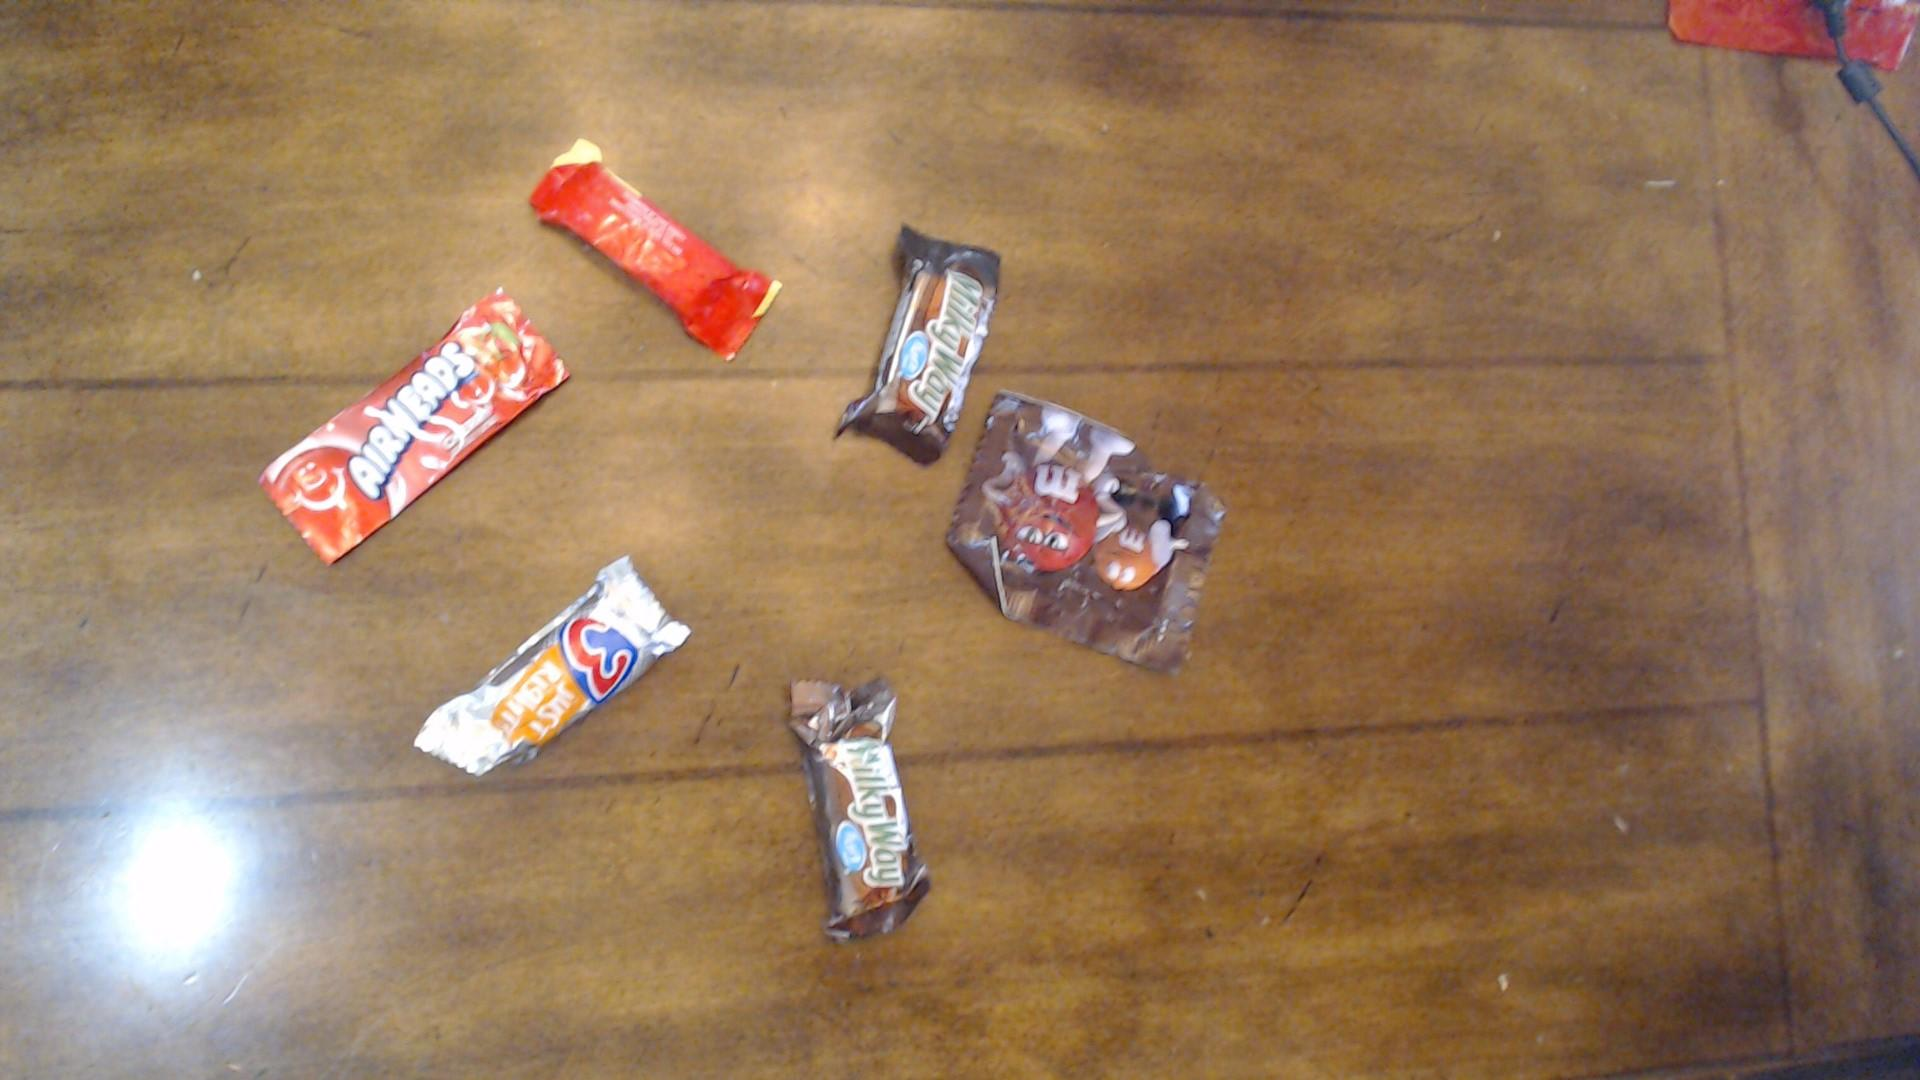MM_regular: (942, 390, 1222, 669)
airheads: (257, 286, 571, 566)
milky_way: (829, 225, 1002, 465), (786, 676, 932, 940)
musketeers: (411, 555, 692, 775)
starburst: (530, 144, 782, 360)
